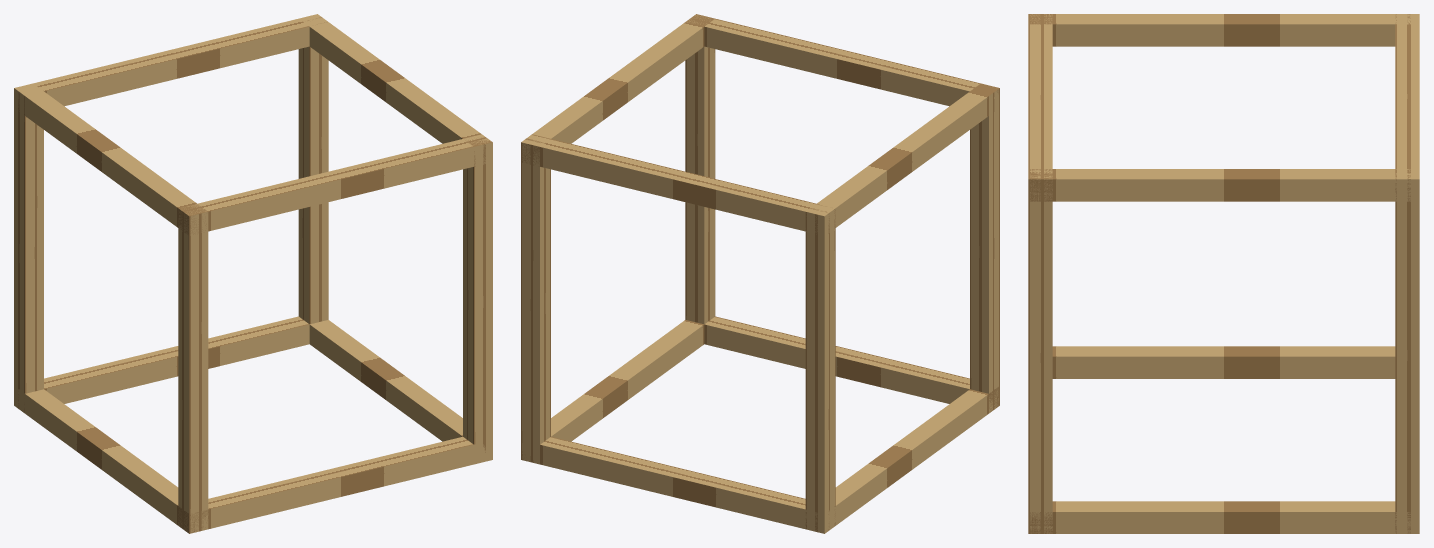
The model's file is scaffold.glb.
3 renders of one model, left to right at view 1: azimuth 30°, elevation 25°; view 2: azimuth 150°, elevation 25°; view 3: azimuth 270°, elevation 25°, orthographic. The views are drawn at different scales.
Parts seen in each view (by area): view 1: scaffold; view 2: scaffold; view 3: scaffold.
Boxes of the visible parts, left/top/right/bottom form: scaffold: left=14, top=14, right=492, bottom=533; scaffold: left=521, top=14, right=999, bottom=533; scaffold: left=1028, top=14, right=1419, bottom=533.
Size of the model in its own units: 1 by 1 by 1.
Materials: 1 (1 with a texture image).
